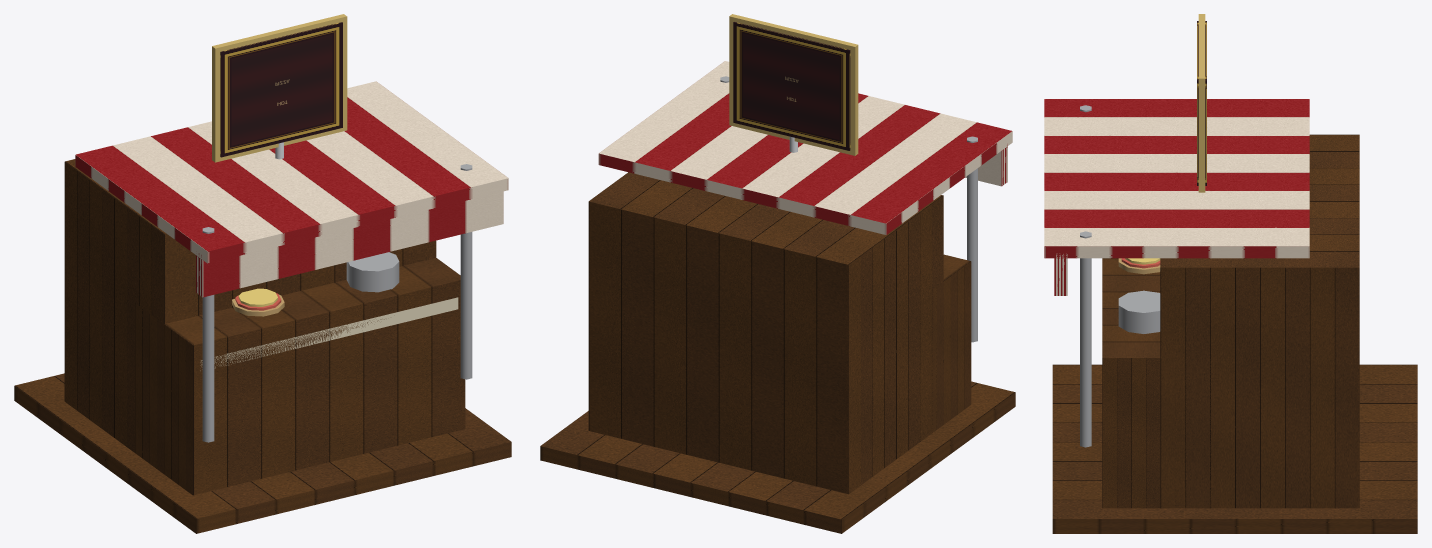
The model's file is vendor_pizza.glb.
3 views of the same model, side by side, from view 1: azimuth 30°, elevation 25°; view 2: azimuth 150°, elevation 25°; view 3: azimuth 270°, elevation 25° (orthographic). The views are drawn at different scales.
Visible parts, largest first — view 1: base, sign, prop; view 2: base, sign; view 3: base, sign, prop.
Boxes of the visible parts, x1,y1,x2,y2 form: base: [14, 81, 511, 533]; sign: [212, 14, 347, 162]; prop: [232, 288, 284, 316]; base: [540, 61, 1015, 533]; sign: [729, 14, 858, 155]; base: [1044, 99, 1417, 533]; sign: [1197, 14, 1206, 192]; prop: [1118, 258, 1160, 274].
Size of the model in its own units: 2.2 by 2.73 by 2.25.
10 materials, 3 textured.
